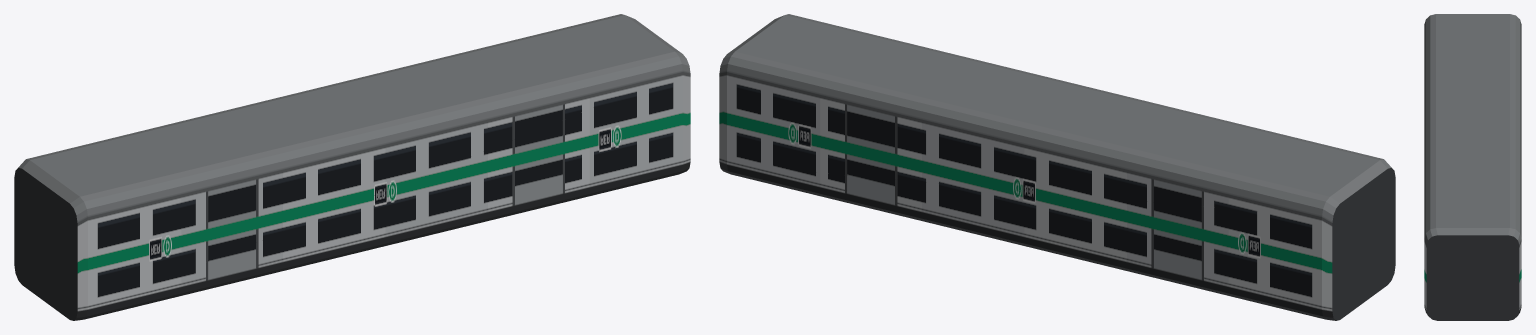
The model's file is rer_generic_D__neutral.glb.
3 views of the same model, side by side, from view 1: azimuth 30°, elevation 25°; view 2: azimuth 150°, elevation 25°; view 3: azimuth 270°, elevation 25° (orthographic). The views are drawn at different scales.
Parts seen in each view (by area): view 1: rer_generic_D__neutral; view 2: rer_generic_D__neutral; view 3: rer_generic_D__neutral.
Part boxes in pixels (x1,y1,x2,y2): rer_generic_D__neutral: (14, 14, 690, 320); rer_generic_D__neutral: (719, 14, 1395, 320); rer_generic_D__neutral: (1424, 14, 1521, 320).
Bounding box in the file's own units: 15 × 2.85 × 2.8.
1 material, 1 textured.
